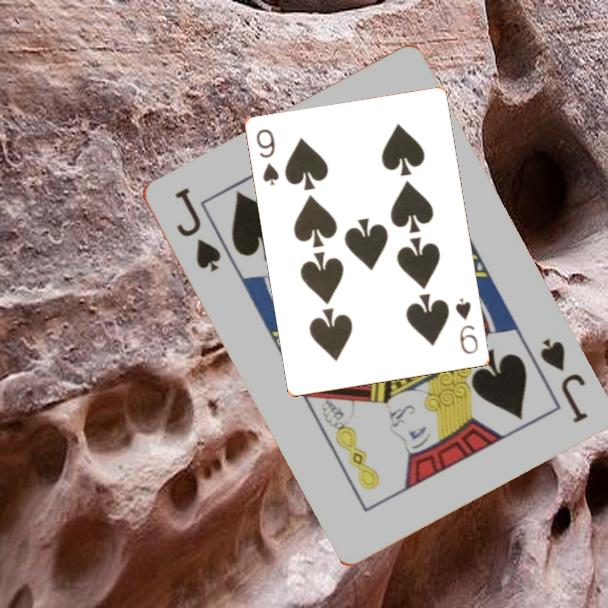s09: (452, 295, 482, 357), (253, 126, 282, 189)
s11: (535, 334, 590, 426), (170, 183, 224, 275)
